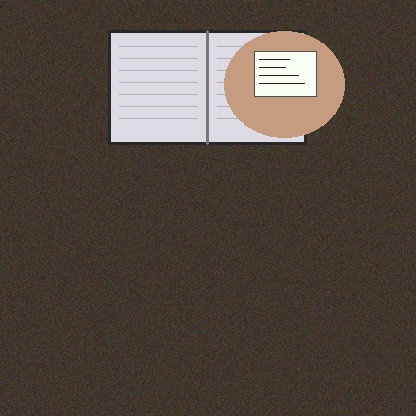book: (109, 31, 305, 143)
exam_chit: (254, 51, 316, 96)
